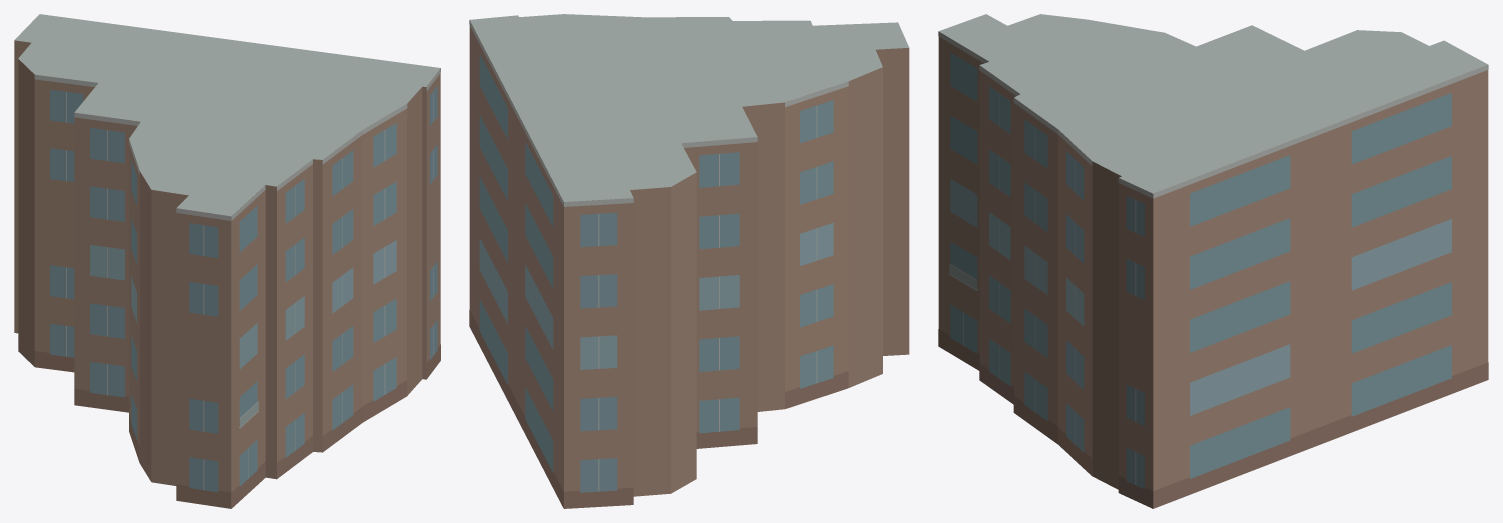
File: survey-upis-32529087.glb
The picture shows the model from 3 angles, left to right: view 1: azimuth 30°, elevation 25°; view 2: azimuth 150°, elevation 25°; view 3: azimuth 270°, elevation 25°; orthographic projection. The views are drawn at different scales.
Parts seen in each view (by area): view 1: survey-upis-32529087.tmp; view 2: survey-upis-32529087.tmp; view 3: survey-upis-32529087.tmp.
Part boxes in pixels (<box>): survey-upis-32529087.tmp: <box>14,14,440,508</box>; survey-upis-32529087.tmp: <box>469,14,909,508</box>; survey-upis-32529087.tmp: <box>938,14,1488,508</box>.
Bounding box in the file's own units: 18.59 × 15.2 × 24.04.
